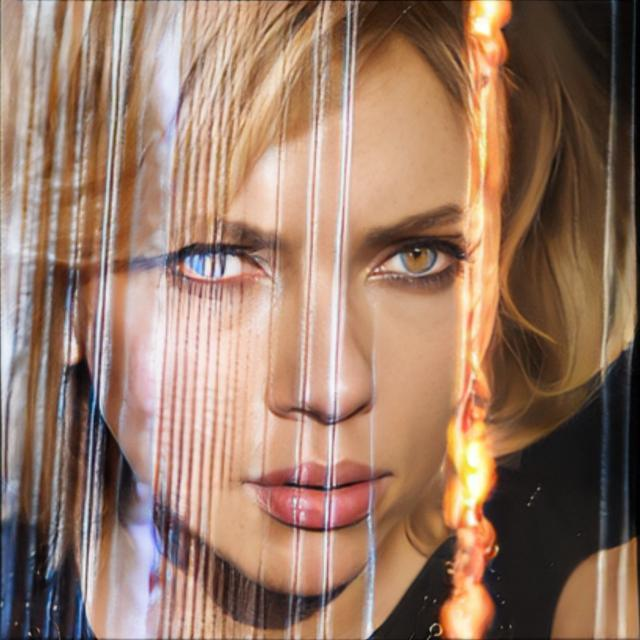anger: (82, 71, 486, 599)
